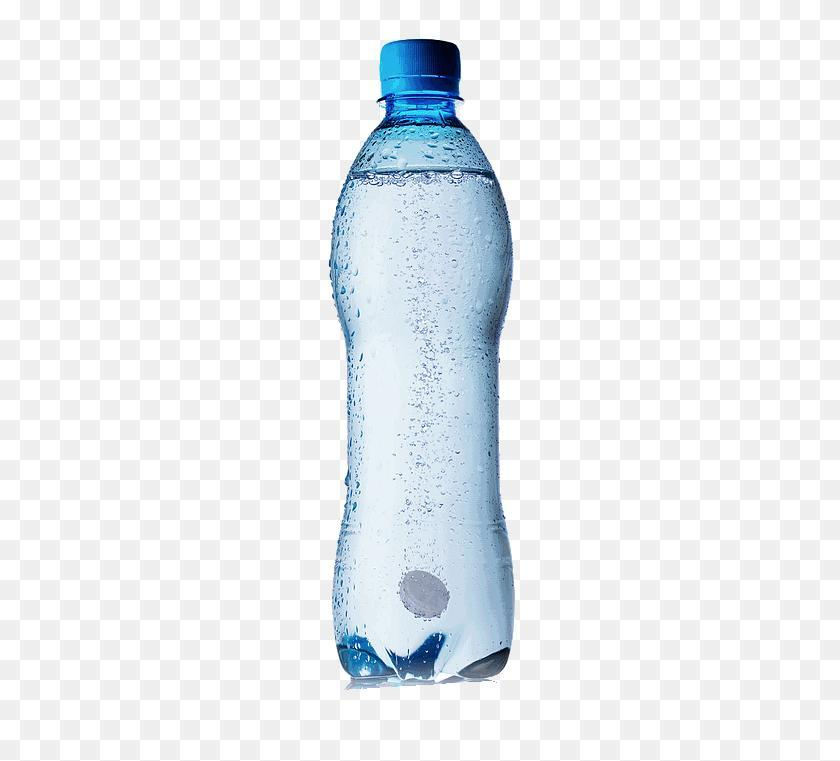bottle: (322, 40, 524, 687)
